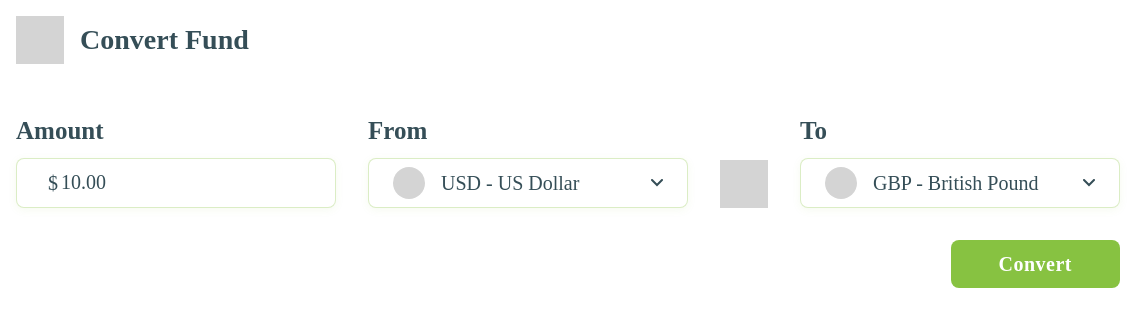
Test case: Converter Component › Currency Selection › should allow selecting from currency
Click From dropdown button
Click the button named "from": (528, 182) [368,158,688,208]
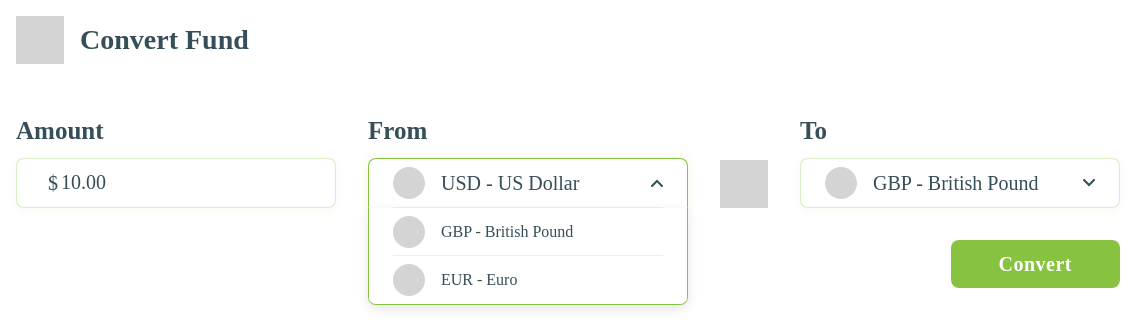
Check: the text "EUR - Euro" is shown, box [441,270,517,288]
Click the button "EUR - Euro": (409, 280) [369,256,687,304]
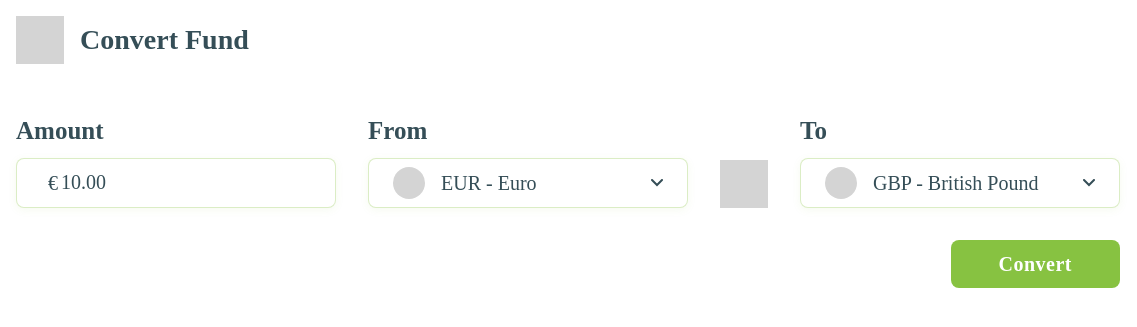
Check: the text "€" is shown, box [48,168,58,198]
